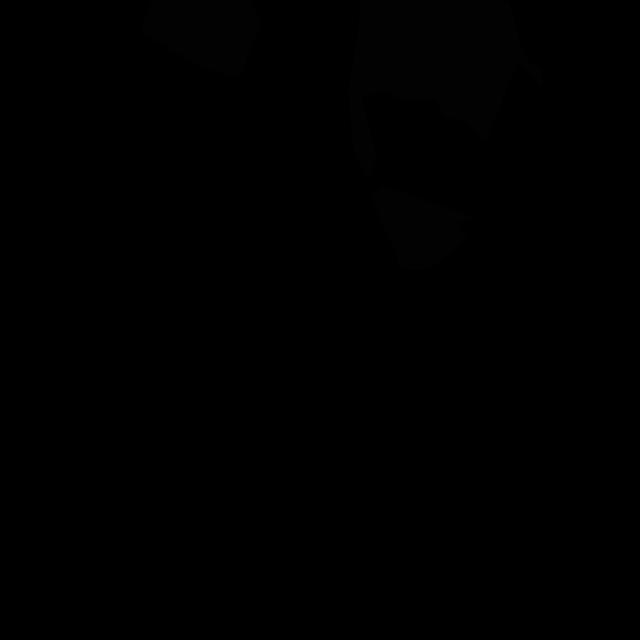cardboard: (348, 0, 543, 181), (140, 0, 262, 78), (371, 185, 473, 271)
